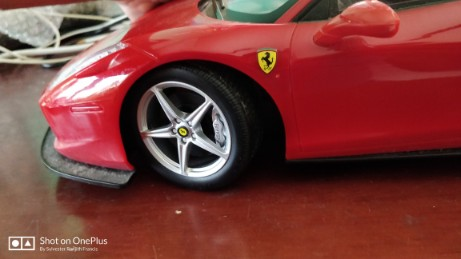unaligned_wheel: (114, 69, 263, 193)
